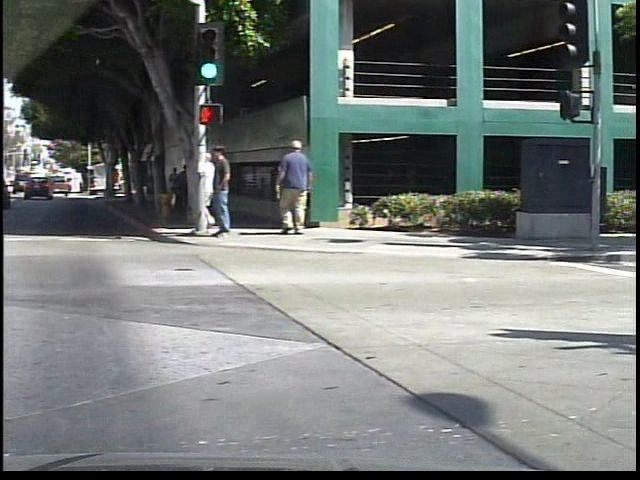person: (273, 140, 326, 238), (205, 138, 243, 245), (197, 149, 224, 230), (179, 164, 195, 221)
